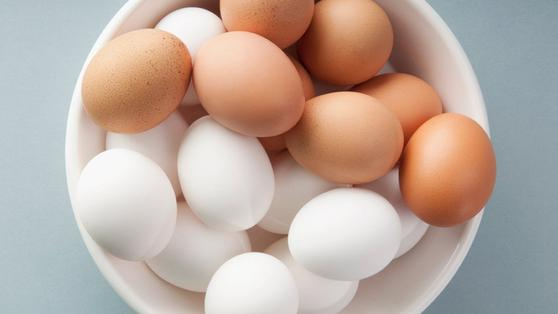egg: (83, 28, 193, 132), (73, 148, 176, 257), (401, 111, 497, 225), (287, 185, 404, 278)
